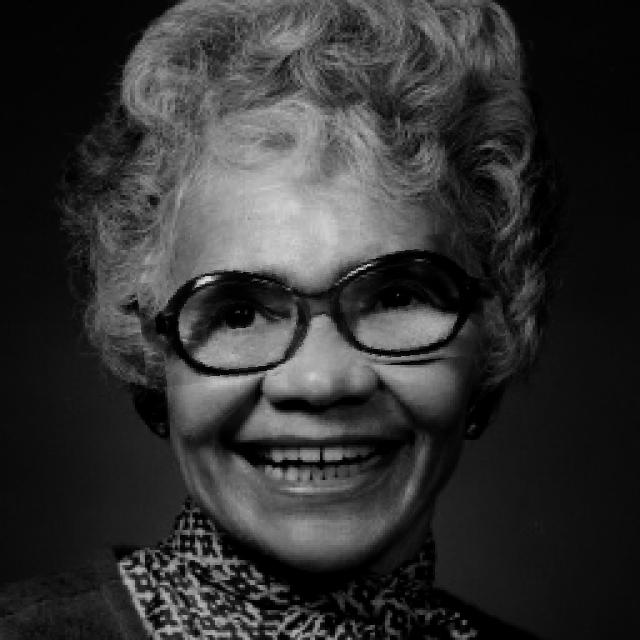glasses: (138, 238, 504, 380)
